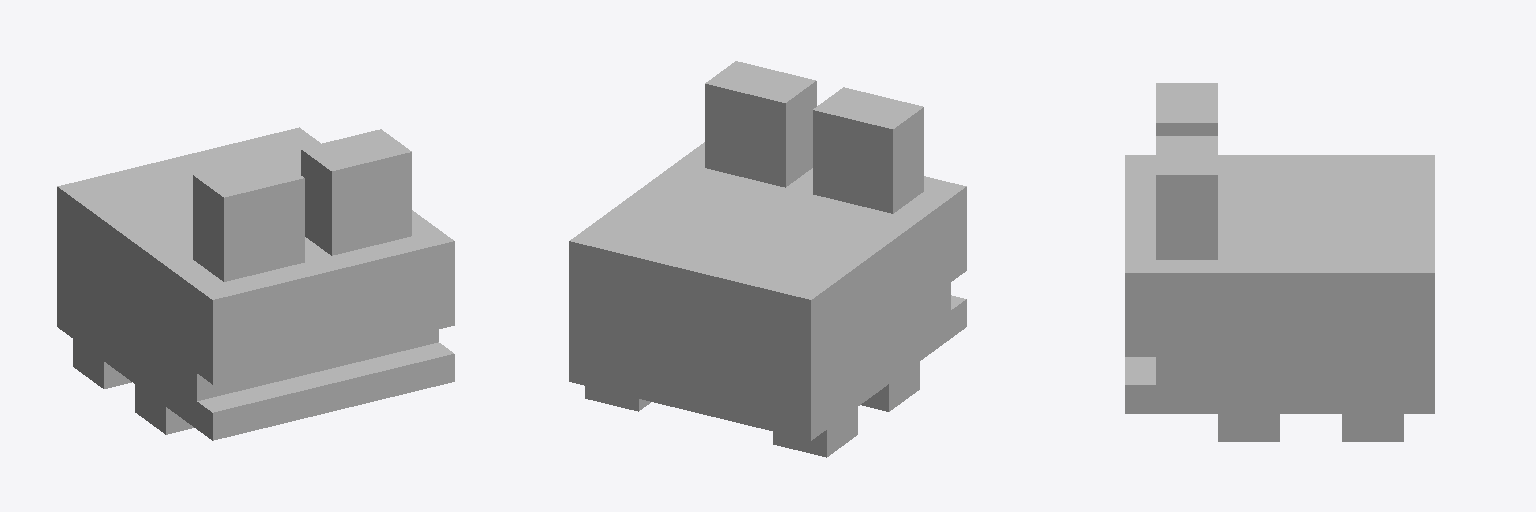
3 views of the same model, side by side, from view 1: azimuth 30°, elevation 25°; view 2: azimuth 150°, elevation 25°; view 3: azimuth 270°, elevation 25° (orthographic).
Visible parts, largest first — view 1: GreenFrog; view 2: GreenFrog; view 3: GreenFrog.
Part boxes in pixels (bbox=[...]): GreenFrog: bbox=[57, 127, 454, 440]; GreenFrog: bbox=[569, 61, 966, 457]; GreenFrog: bbox=[1125, 83, 1434, 441].
Bounding box in the file's own units: 0.5625 × 0.5625 × 0.625.